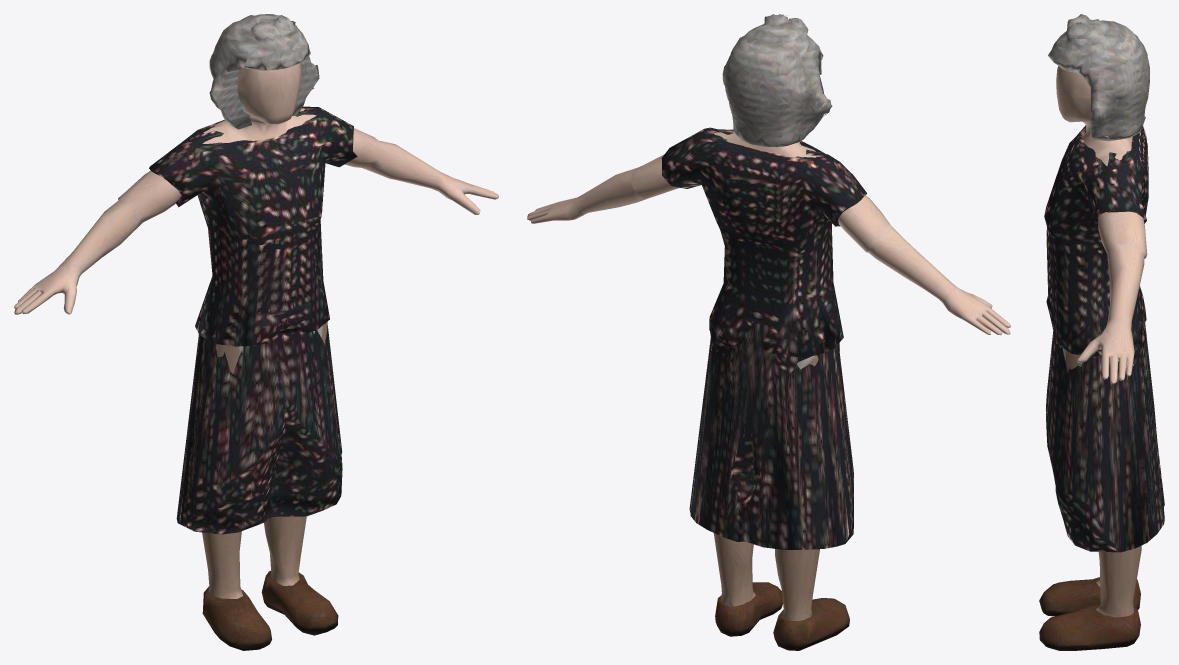
Rendered from npc_x_grandma3.glb.
3 renders of one model, left to right at view 1: azimuth 30°, elevation 25°; view 2: azimuth 150°, elevation 25°; view 3: azimuth 270°, elevation 25°, orthographic.
Parts seen in each view (by area): view 1: Human; view 2: Human; view 3: Human.
Boxes of the visible parts, box(x1,y1,x2,y2) form: Human: box(14, 14, 498, 650); Human: box(527, 14, 1010, 650); Human: box(1039, 14, 1164, 650).
Size of the model in its own units: 1.39 by 1.68 by 0.3127.
Materials: 1 (1 with a texture image).
